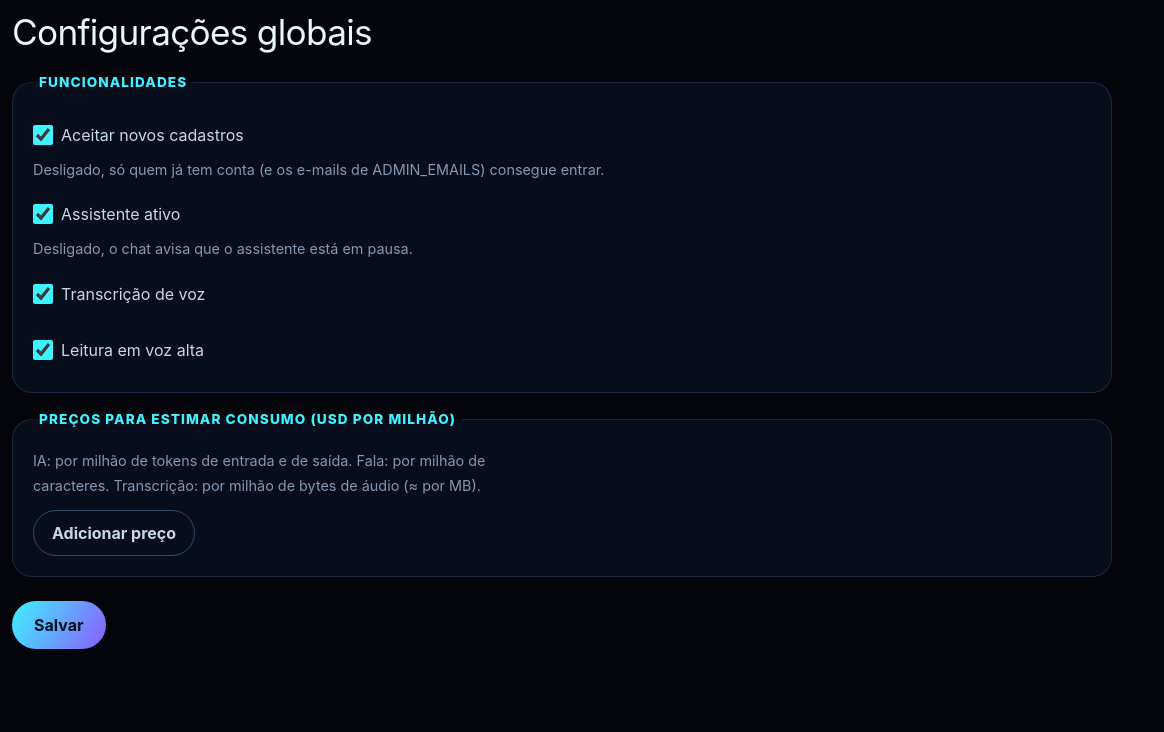
it: AdminSettingsPage › turns features on and off and saves
Step 1. Click the checkbox labelled "Aceitar novos cadastros" → (43, 135), box [33, 125, 53, 145]
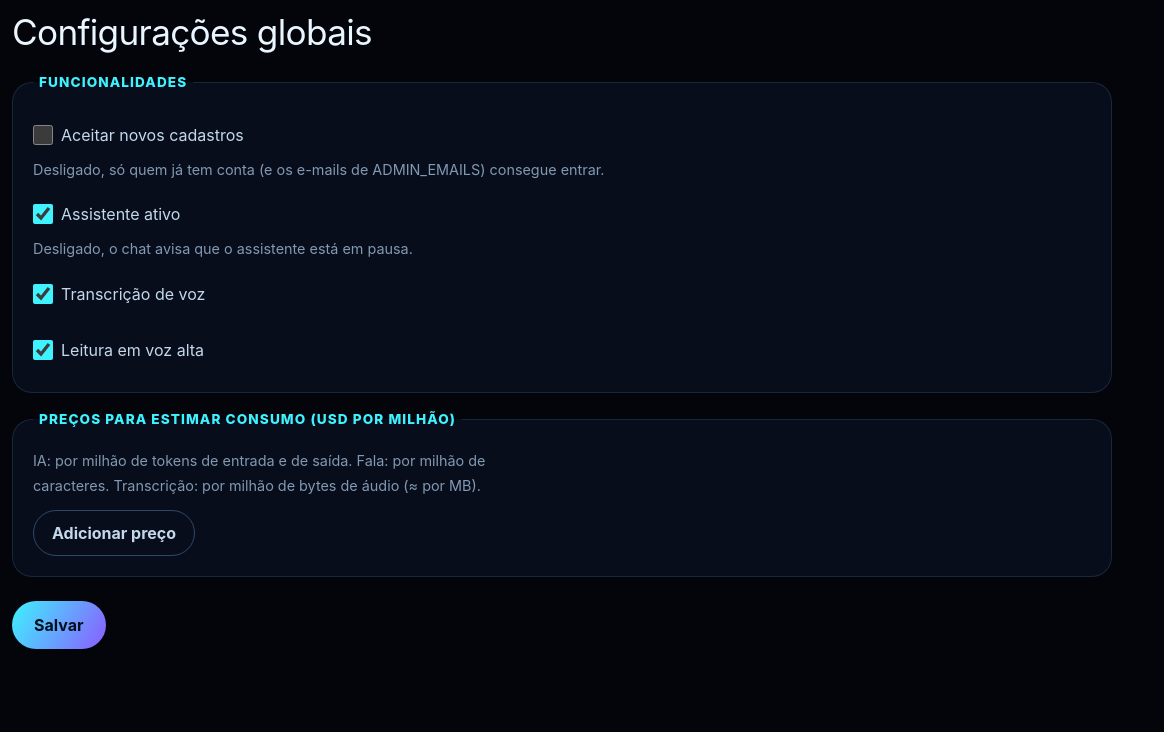
Step 2. Click the button "Salvar" → (59, 625), box [12, 601, 106, 649]
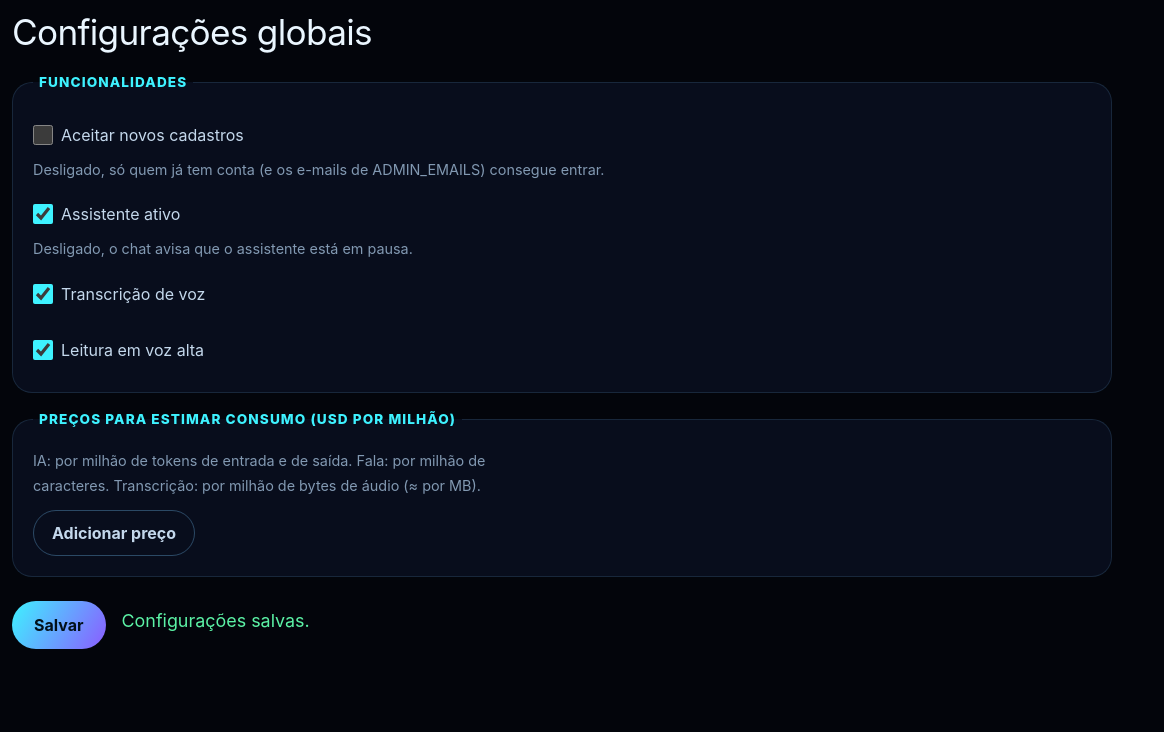
Expected: the text "Configurações salvas." is shown, [122, 606, 310, 637]
